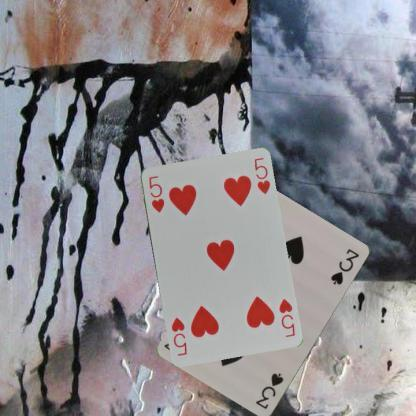3s: (252, 370, 285, 411)
5h: (275, 296, 296, 338), (146, 173, 166, 214)
